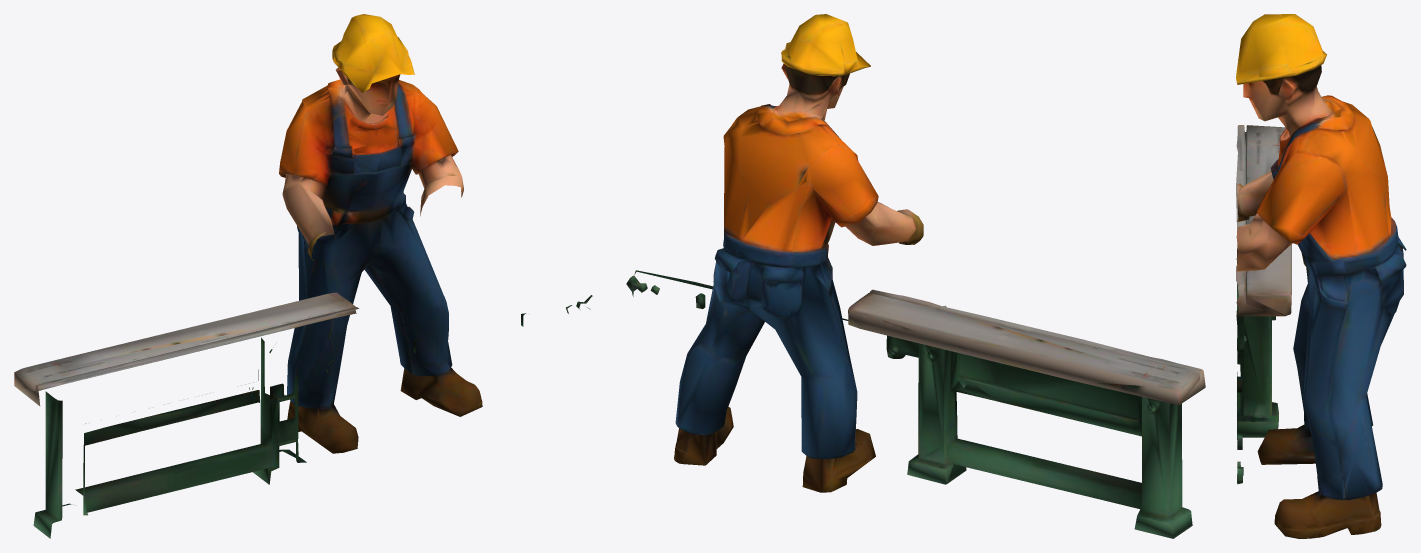
File: worker_sawmill_op_github.glb
The picture shows the model from 3 angles, left to right: view 1: azimuth 30°, elevation 25°; view 2: azimuth 150°, elevation 25°; view 3: azimuth 270°, elevation 25°; orthographic projection. The views are drawn at different scales.
Visible parts, largest first — view 1: worker_sawmill_op_github; view 2: worker_sawmill_op_github; view 3: worker_sawmill_op_github.
Part boxes in pixels (x1,y1,x2,y2): worker_sawmill_op_github: (14, 14, 592, 538); worker_sawmill_op_github: (626, 14, 1205, 538); worker_sawmill_op_github: (1236, 14, 1406, 538).
Bounding box in the file's own units: 0.9251 × 0.6718 × 0.2257.
Materials: 1 (1 with a texture image).
